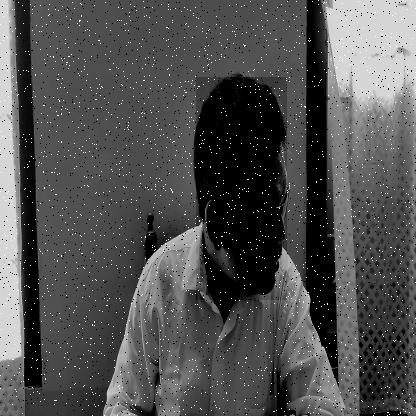Distracted: (196, 77, 287, 300)
